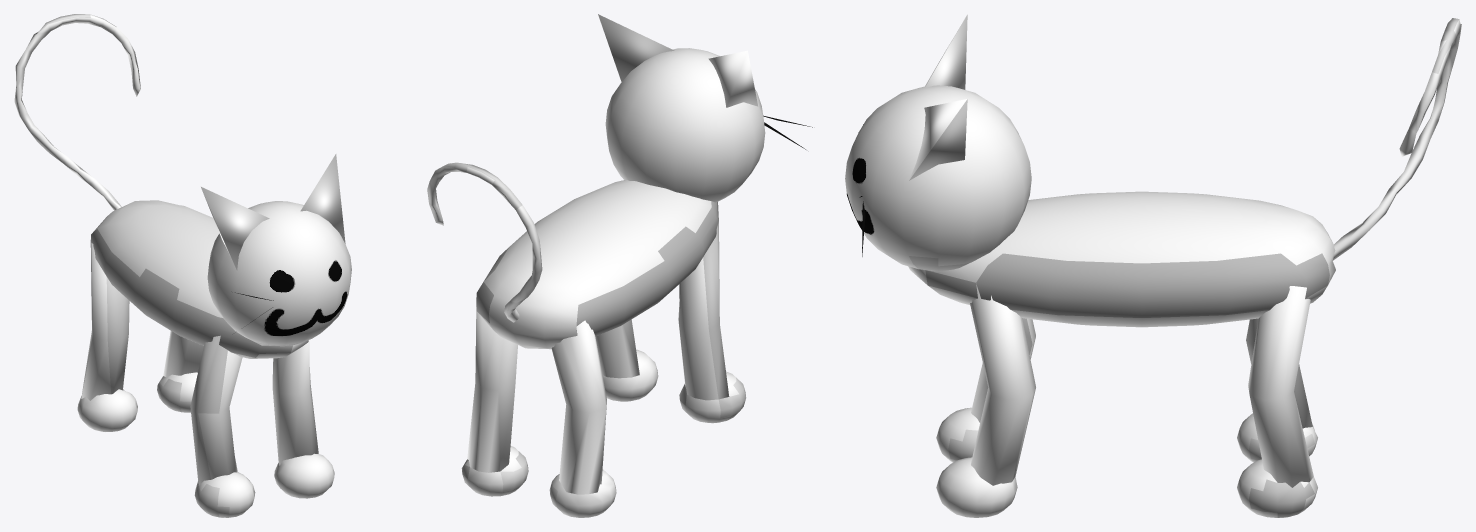
File: cat.obj
3 views of the same model, side by side, from view 1: azimuth 30°, elevation 25°; view 2: azimuth 150°, elevation 25°; view 3: azimuth 270°, elevation 25° (orthographic). The views are drawn at different scales.
Parts seen in each view (by area): view 1: BézierCurve; view 2: BézierCurve; view 3: BézierCurve.
Boxes of the visible parts, x1=… form: BézierCurve: x1=14, y1=14, x2=351, y2=517; BézierCurve: x1=427, y1=14, x2=812, y2=517; BézierCurve: x1=845, y1=14, x2=1461, y2=517.
Bounding box in the file's own units: 1.83 × 3.48 × 4.27.
